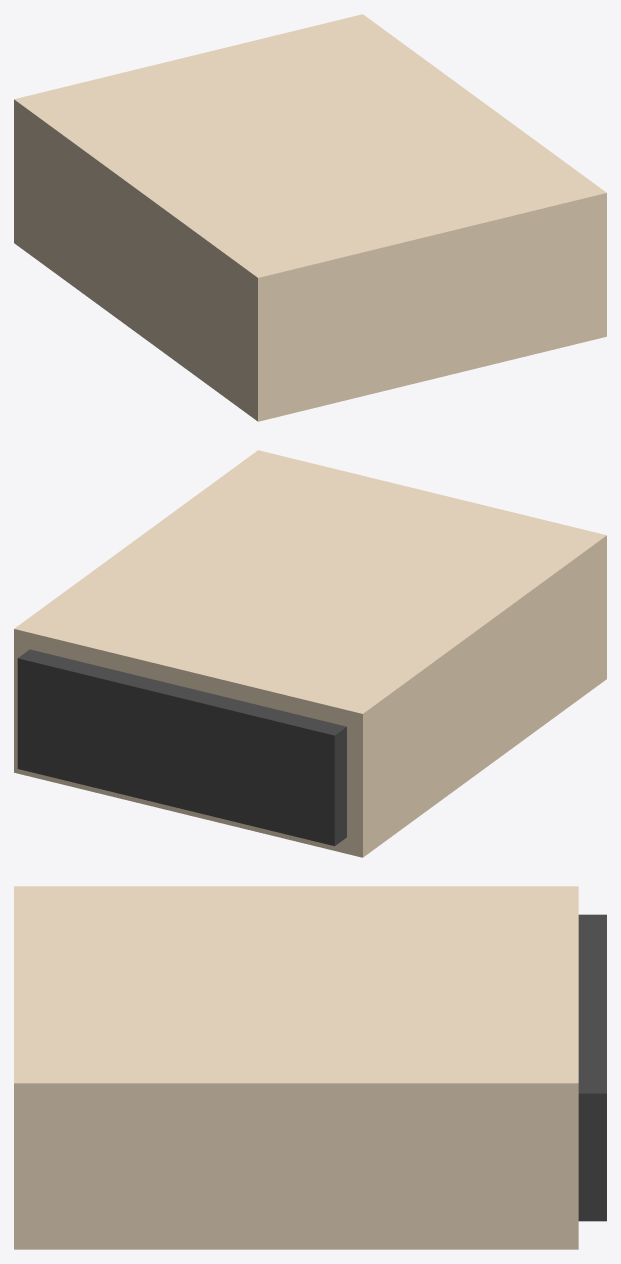
Rendered from panel_1.dae.
The picture shows the model from 3 angles, top to bottom: view 1: azimuth 30°, elevation 25°; view 2: azimuth 150°, elevation 25°; view 3: azimuth 270°, elevation 25°; orthographic projection. The views are drawn at different scales.
Parts seen in each view (by area): view 1: coords_ME_ID39_MA_material_12; view 2: coords_ME_ID39_MA_material_12, coords_ME_ID57_MA_material; view 3: coords_ME_ID39_MA_material_12, coords_ME_ID57_MA_material.
Boxes of the visible parts, x1,y1,x2,y2 form: coords_ME_ID39_MA_material_12: (14, 14, 606, 421); coords_ME_ID39_MA_material_12: (14, 450, 606, 857); coords_ME_ID57_MA_material: (17, 649, 346, 846); coords_ME_ID39_MA_material_12: (14, 886, 578, 1249); coords_ME_ID57_MA_material: (578, 914, 606, 1221).
Bounding box in the file's own units: 15.59 × 6.61 × 19.84.
